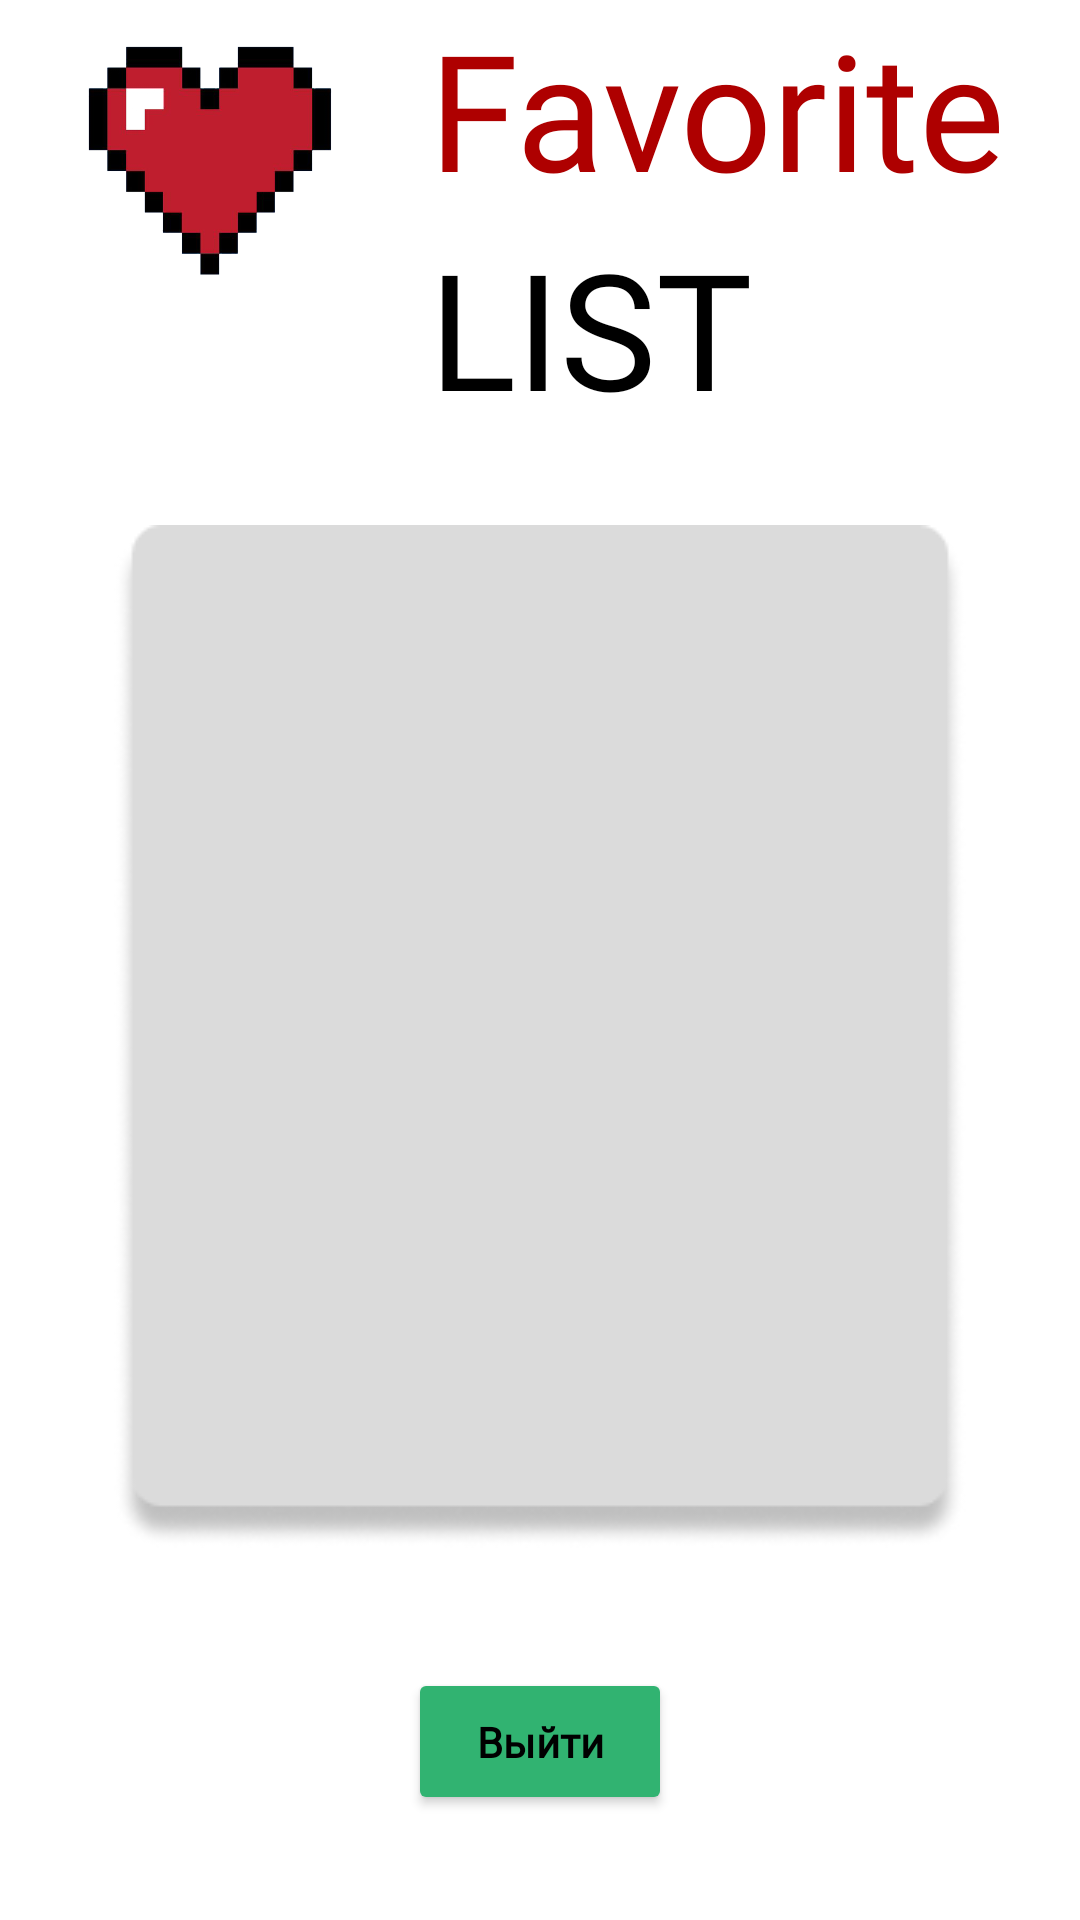

Icon click points for this 1080*1920 phone screenshot, format [x,y]:
pixel heart: [209,160]
